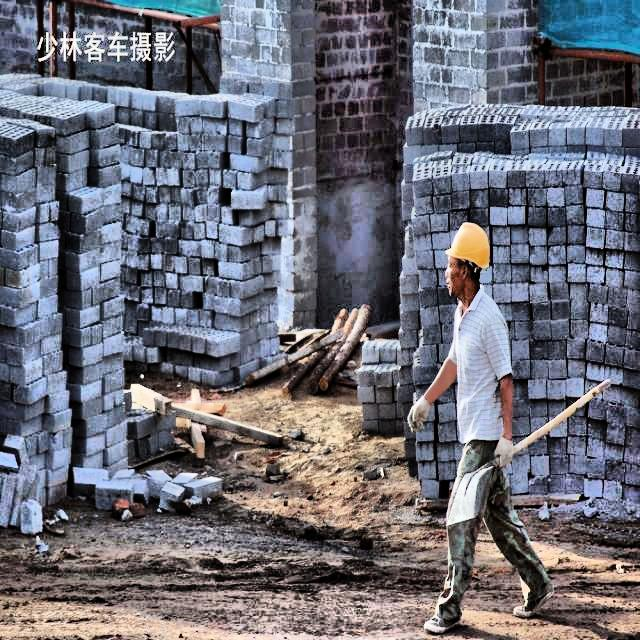person: (420, 211, 552, 640)
